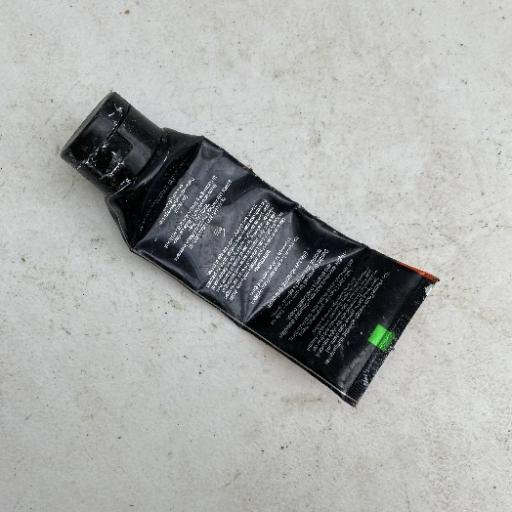Plastic: (58, 89, 440, 409)
